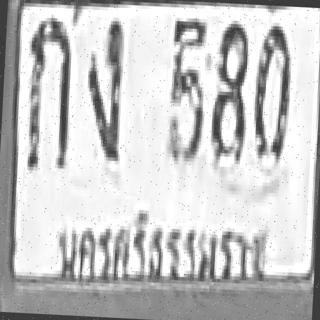A01: (23, 13, 74, 168)
A07: (83, 17, 126, 161)
N00: (250, 23, 293, 162)
N05: (166, 14, 208, 162)
N08: (208, 18, 250, 166)
P32: (52, 201, 274, 292)
